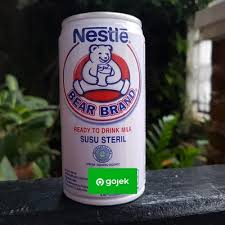Bear Brand Susu Steril (189ml): (52, 10, 147, 206)
